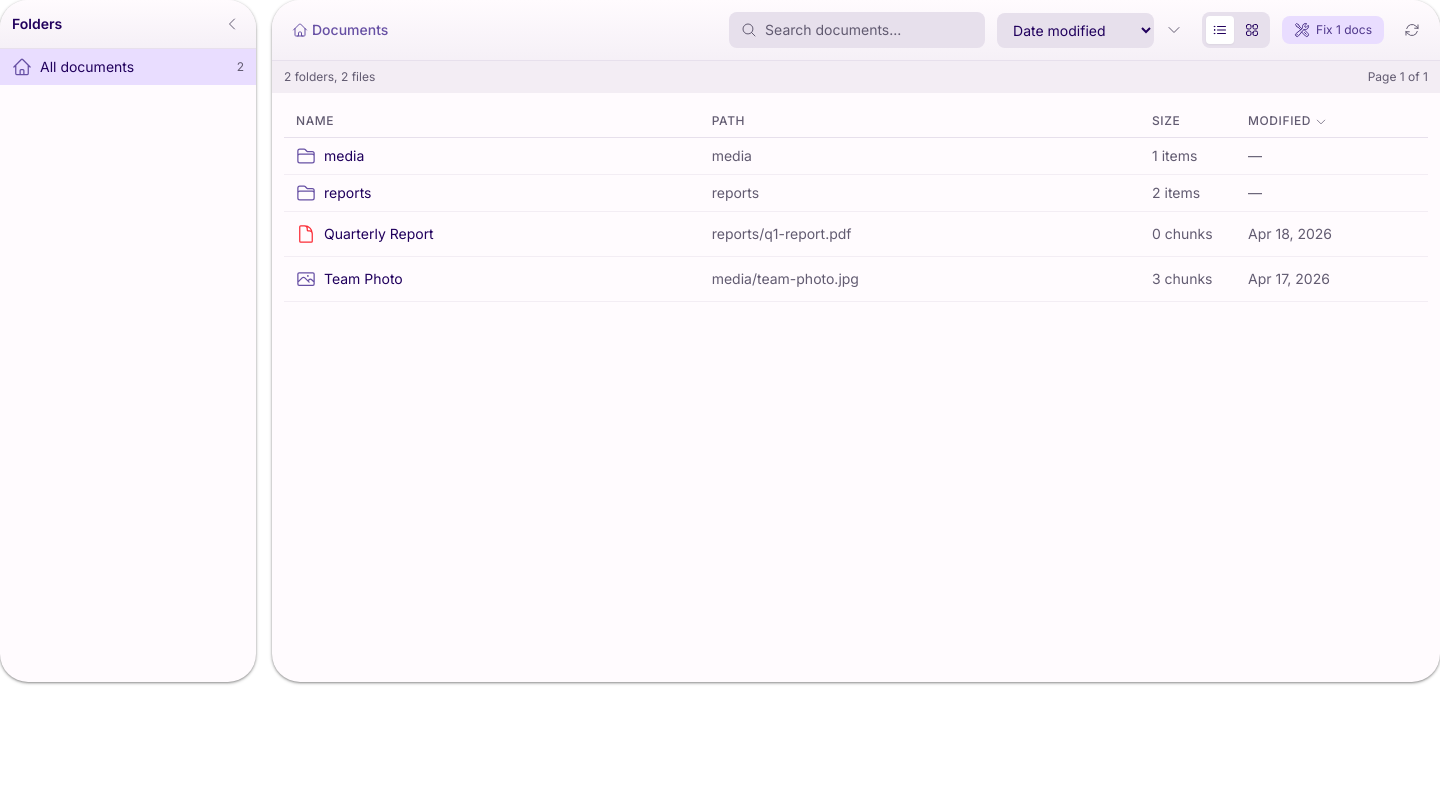
it: DocumentsPage › cycles sort state, refreshes data, and toggles the folder sidebar
The image size is (1440, 810).
Expected: the text "Quarterly Report" is shown, [324, 224, 434, 244]
Click the column heading "Name" at x=315, y=120, box [284, 105, 700, 138]
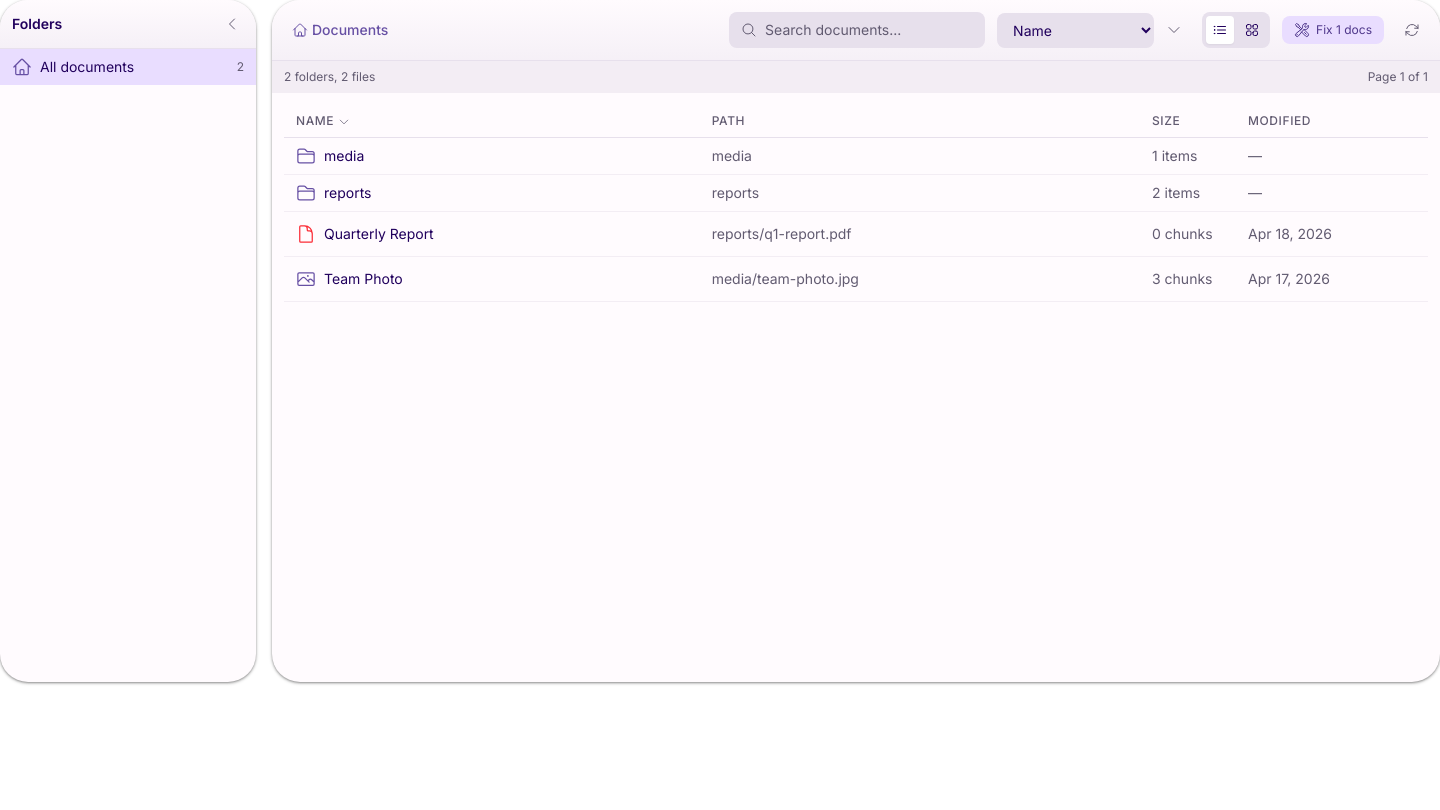
Click the column heading "Name" at x=315, y=120, box [284, 105, 700, 138]
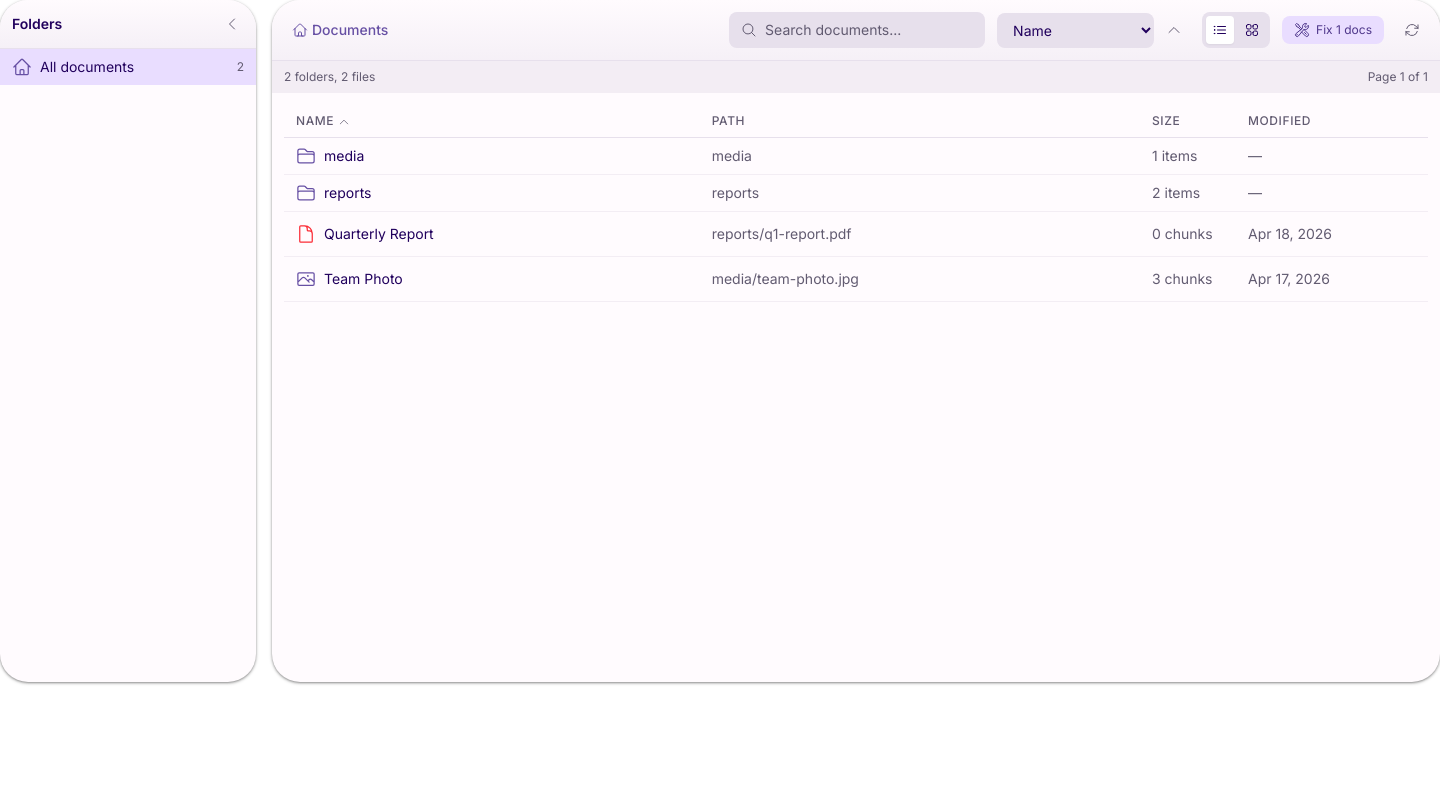
Expected: the button titled "Sort ascending" is shown
Click the button titled "Sort ascending" at x=1174, y=30, box [1158, 14, 1190, 46]
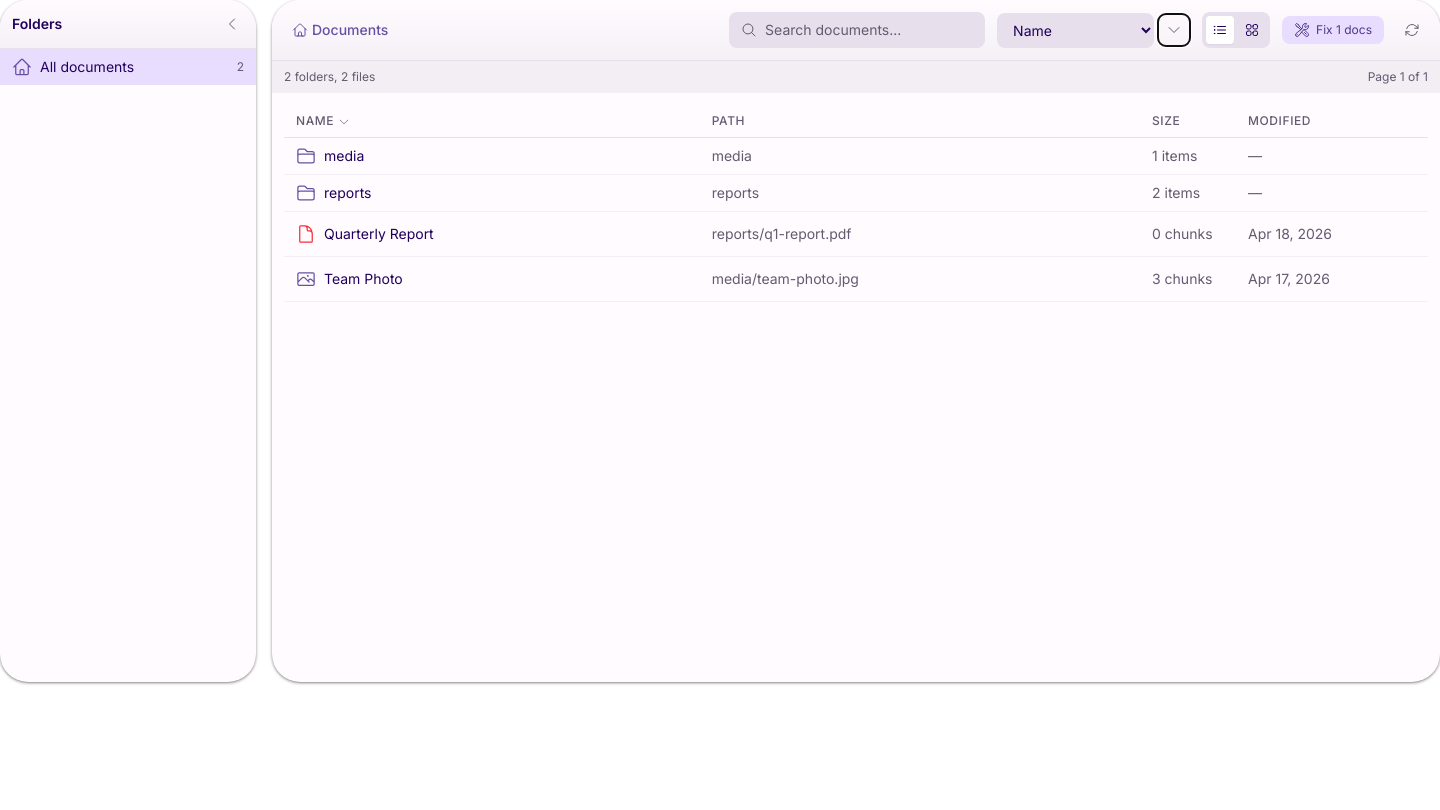
Click the button titled "Refresh" at x=1412, y=30, box [1396, 14, 1428, 46]
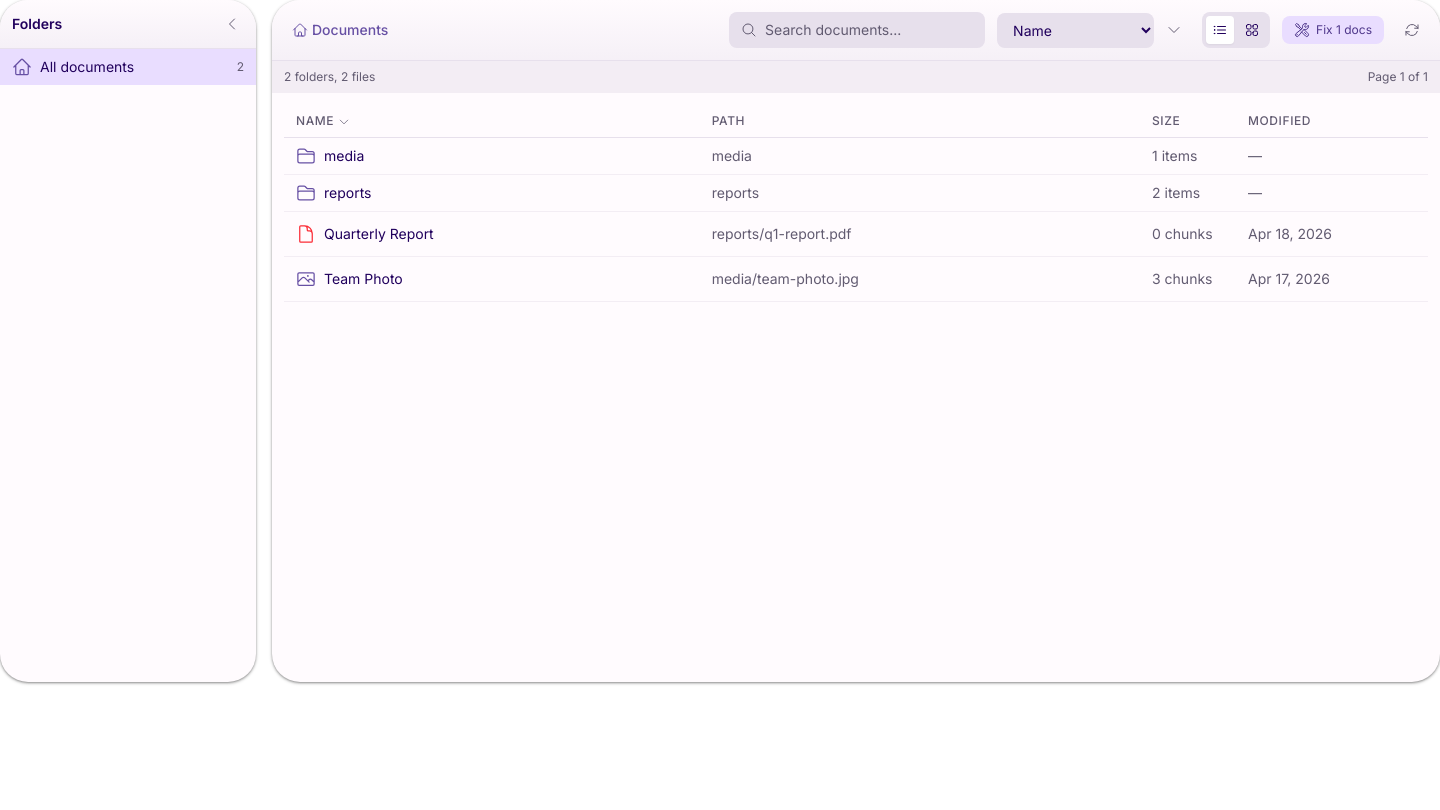
Click the 1st button at x=232, y=24, box [220, 12, 244, 36]
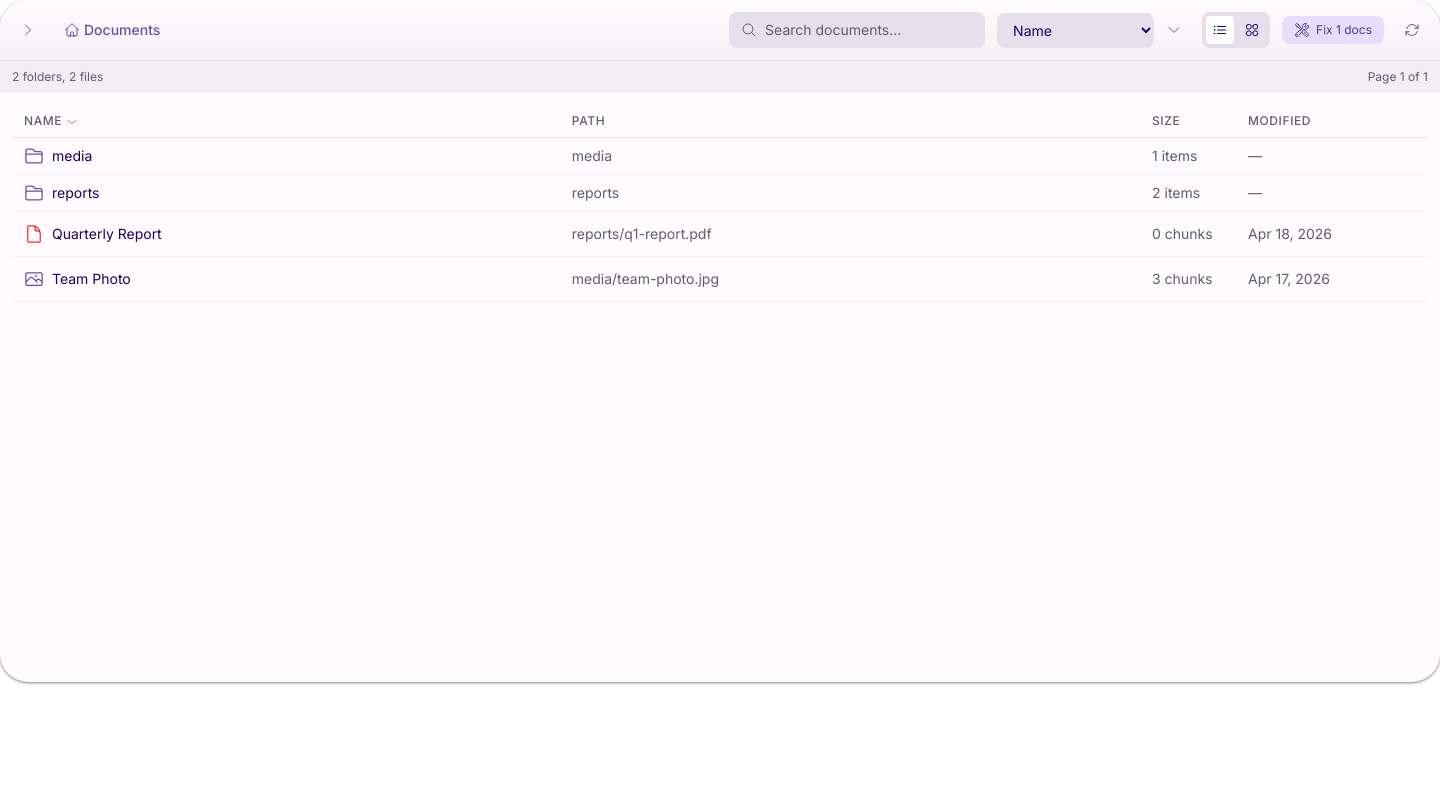
Expected: the button titled "Show folders" is shown
Click the button titled "Show folders" at x=28, y=30, box [12, 14, 44, 46]
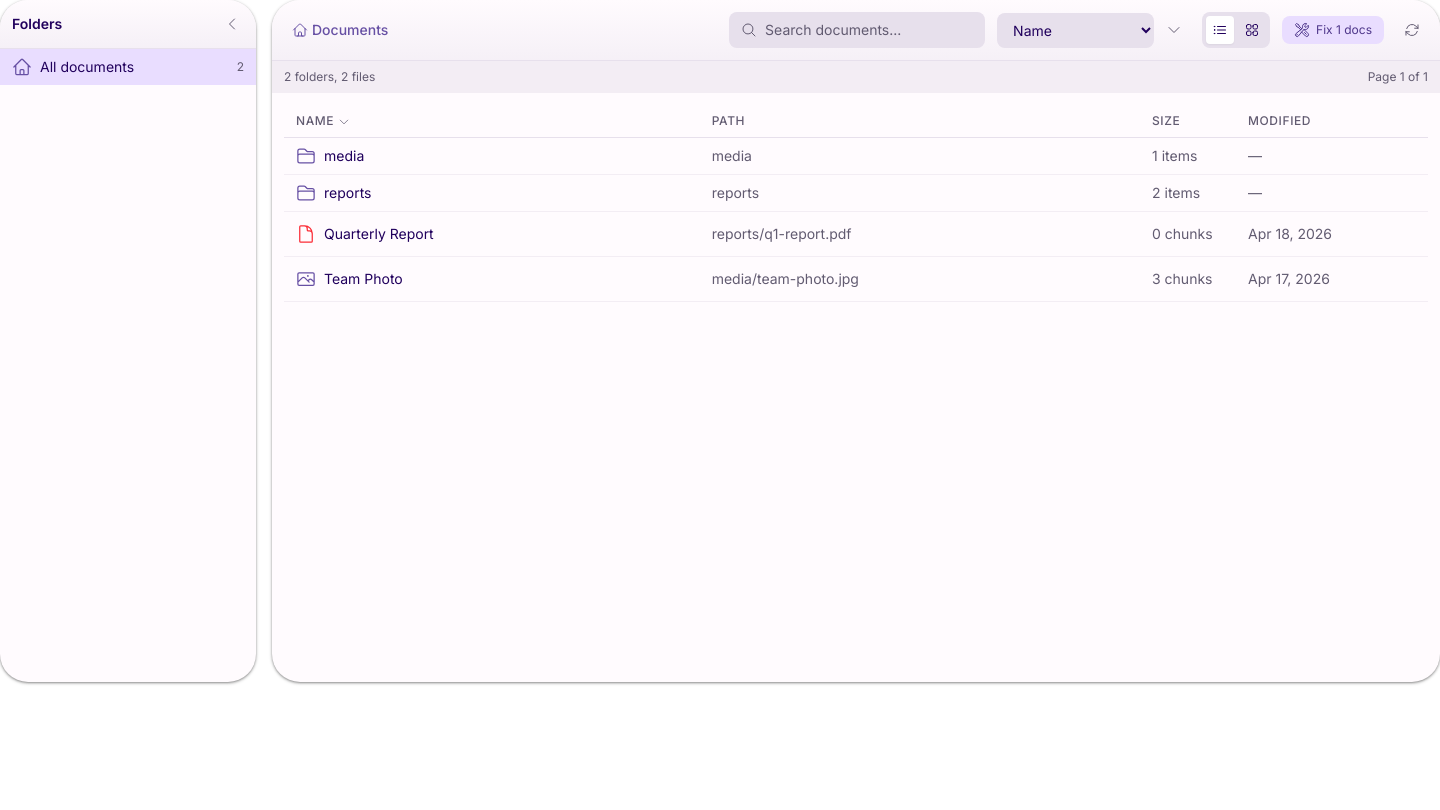
Expected: the heading "Folders" is shown, [12, 14, 62, 34]
